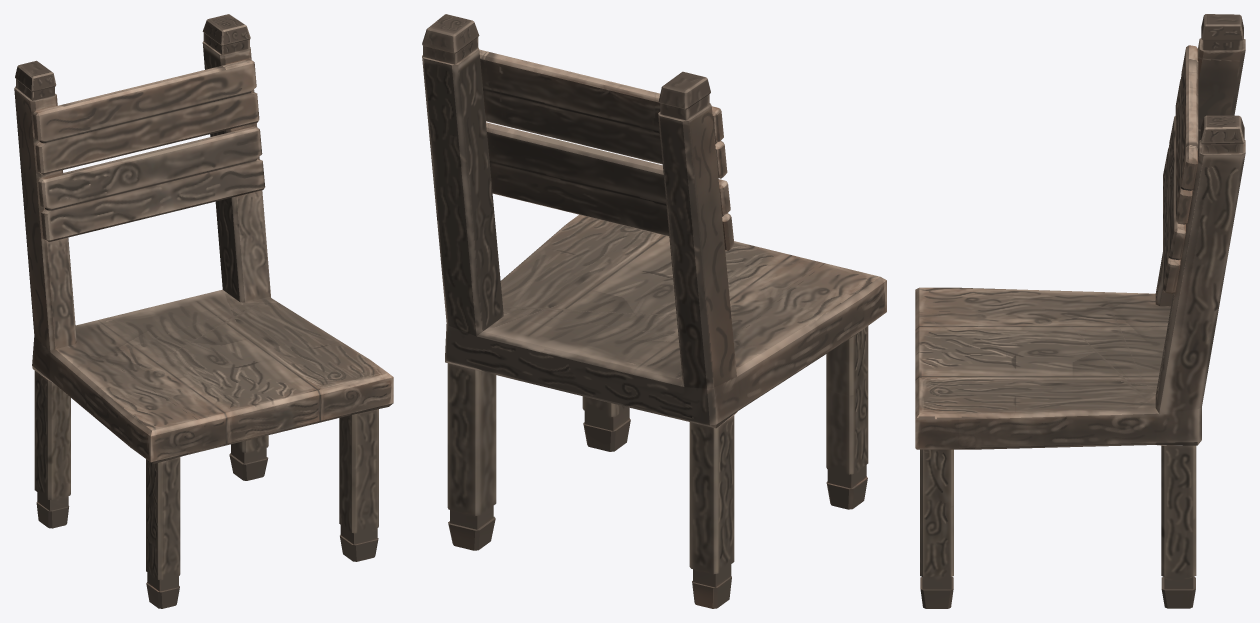
The model's file is Chair.fbx.
3 renders of one model, left to right at view 1: azimuth 30°, elevation 25°; view 2: azimuth 150°, elevation 25°; view 3: azimuth 270°, elevation 25°, orthographic. The views are drawn at different scales.
Visible parts, largest first — view 1: Chair; view 2: Chair; view 3: Chair.
Part boxes in pixels (left/top/right/bottom): Chair: left=14, top=14, right=393, bottom=608; Chair: left=422, top=14, right=886, bottom=608; Chair: left=915, top=14, right=1245, bottom=608.
Bounding box in the file's own units: 42.41 × 73.09 × 45.6.
